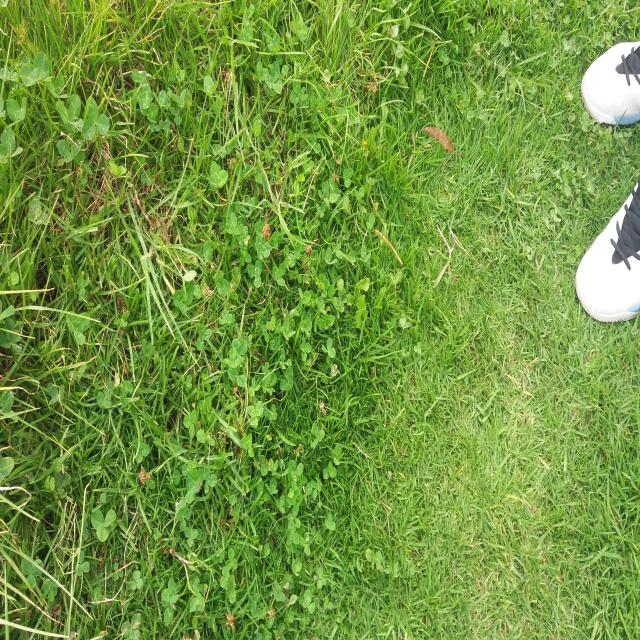Four Leaf Clover: (183, 221, 244, 268), (328, 266, 339, 284)
